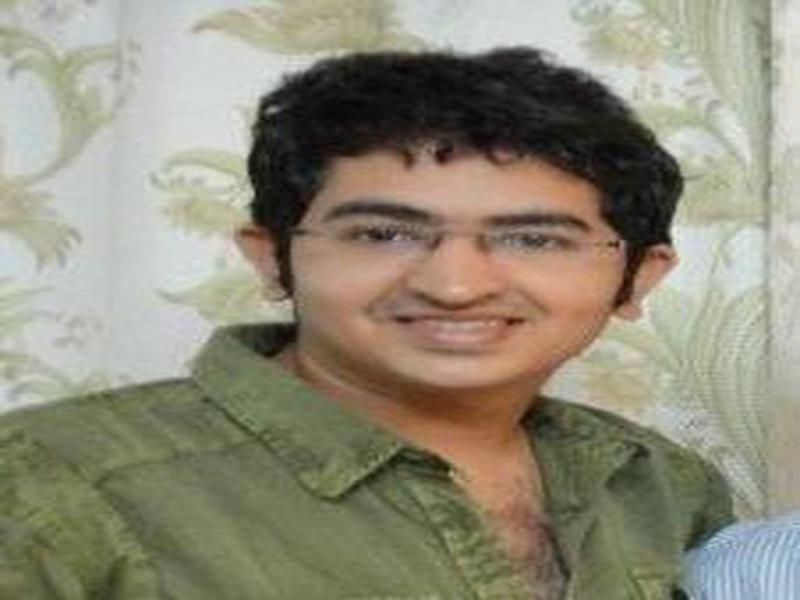without_mask: (285, 148, 625, 389)
